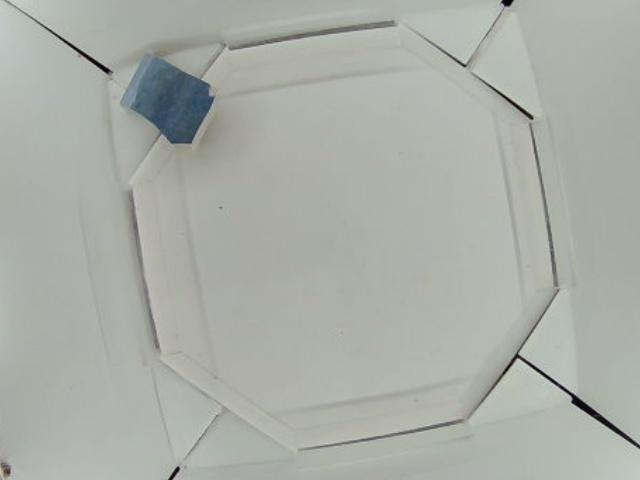China: (121, 54, 217, 149)
